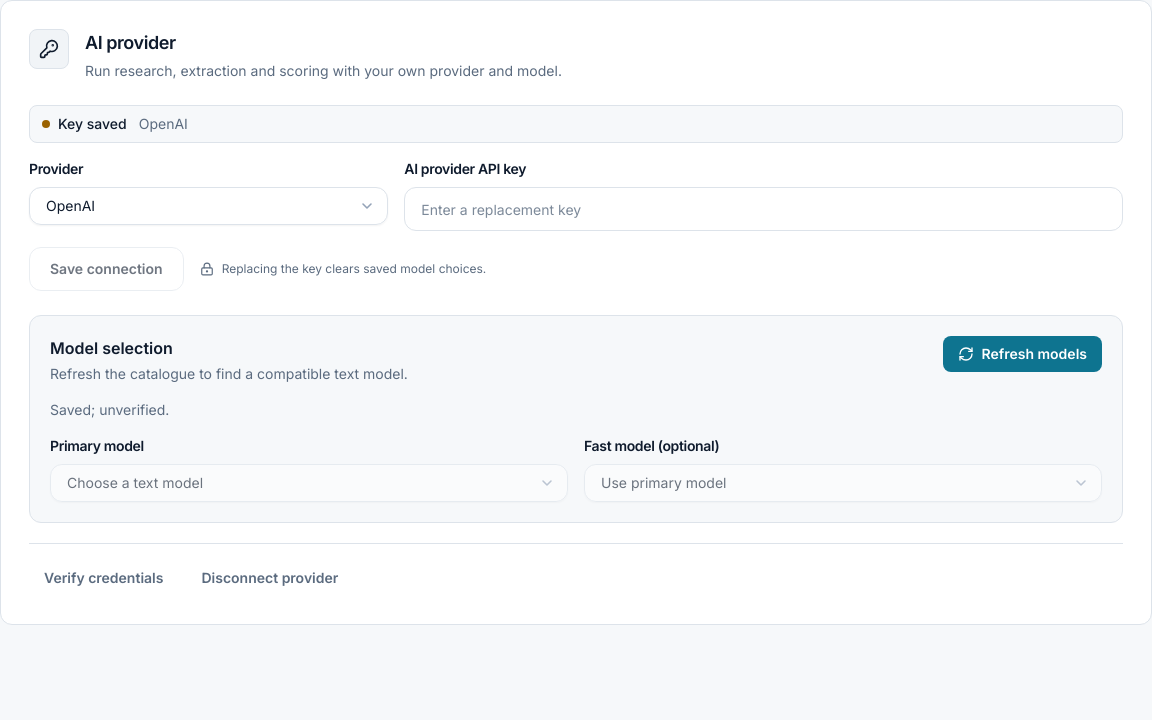
it: shows unavailable metadata honestly and permits deferred setup
Click the button "Refresh models" at (1022,354), box [942,336,1102,372]
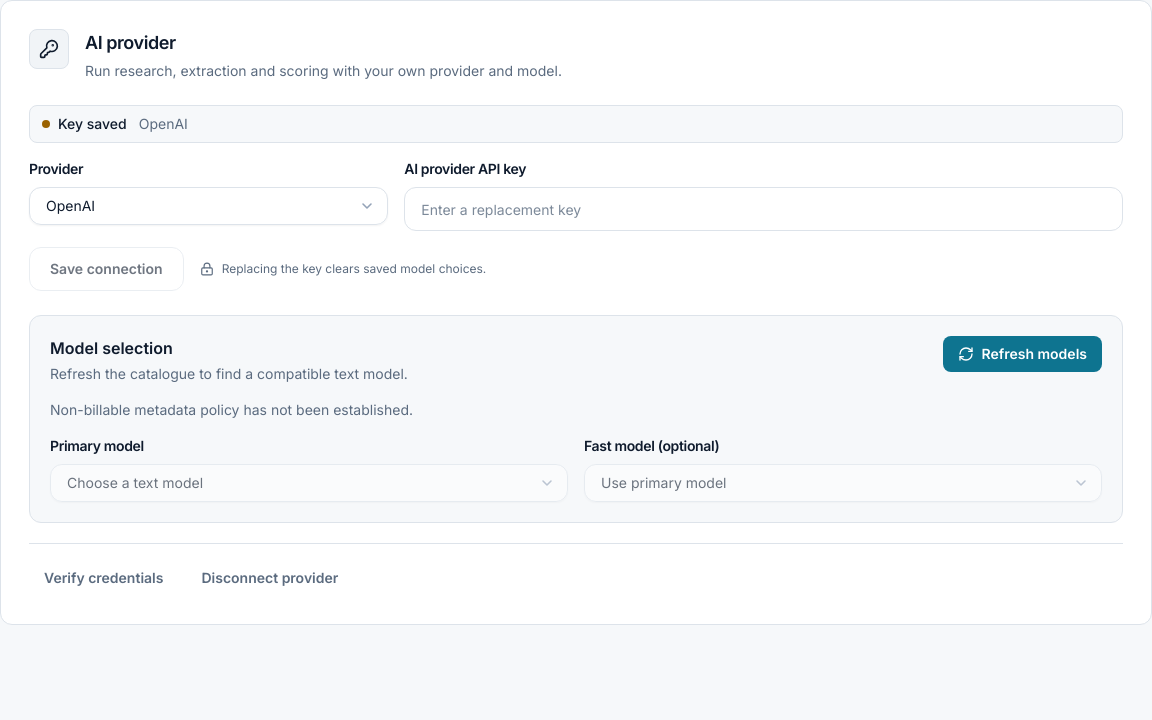
Expected: the dropdown labelled "Primary model" is disabled, [50,464,568,502]
Result: the text "Non-billable metadata policy has not been established." is shown at [50,401,413,418]
